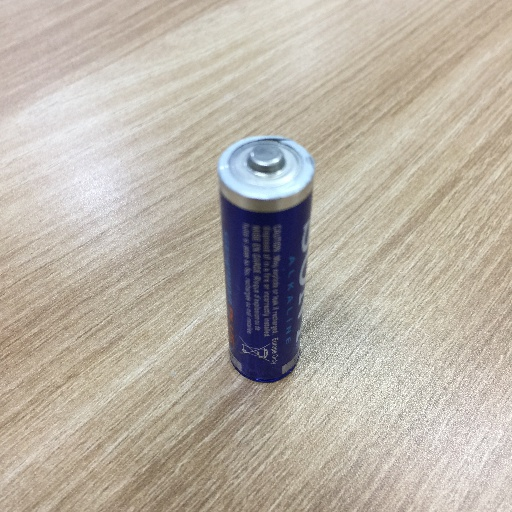Battery_0: (212, 127, 316, 399)
